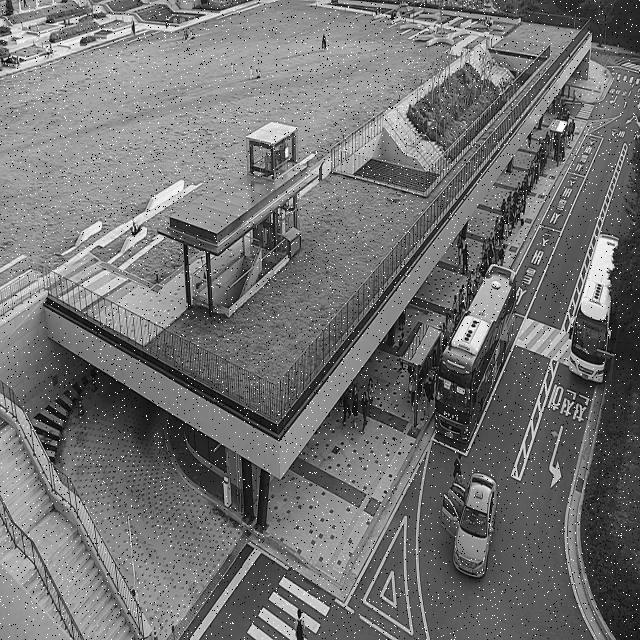queue: (416, 100, 570, 428)
